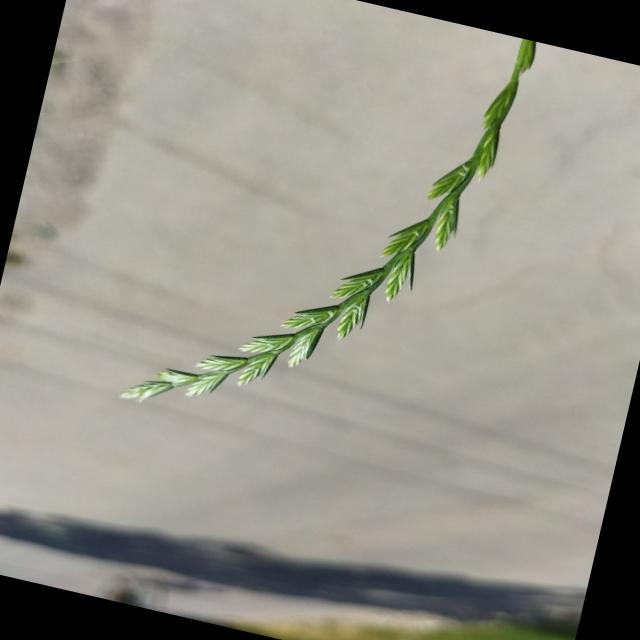Lolium: (114, 0, 541, 475)
